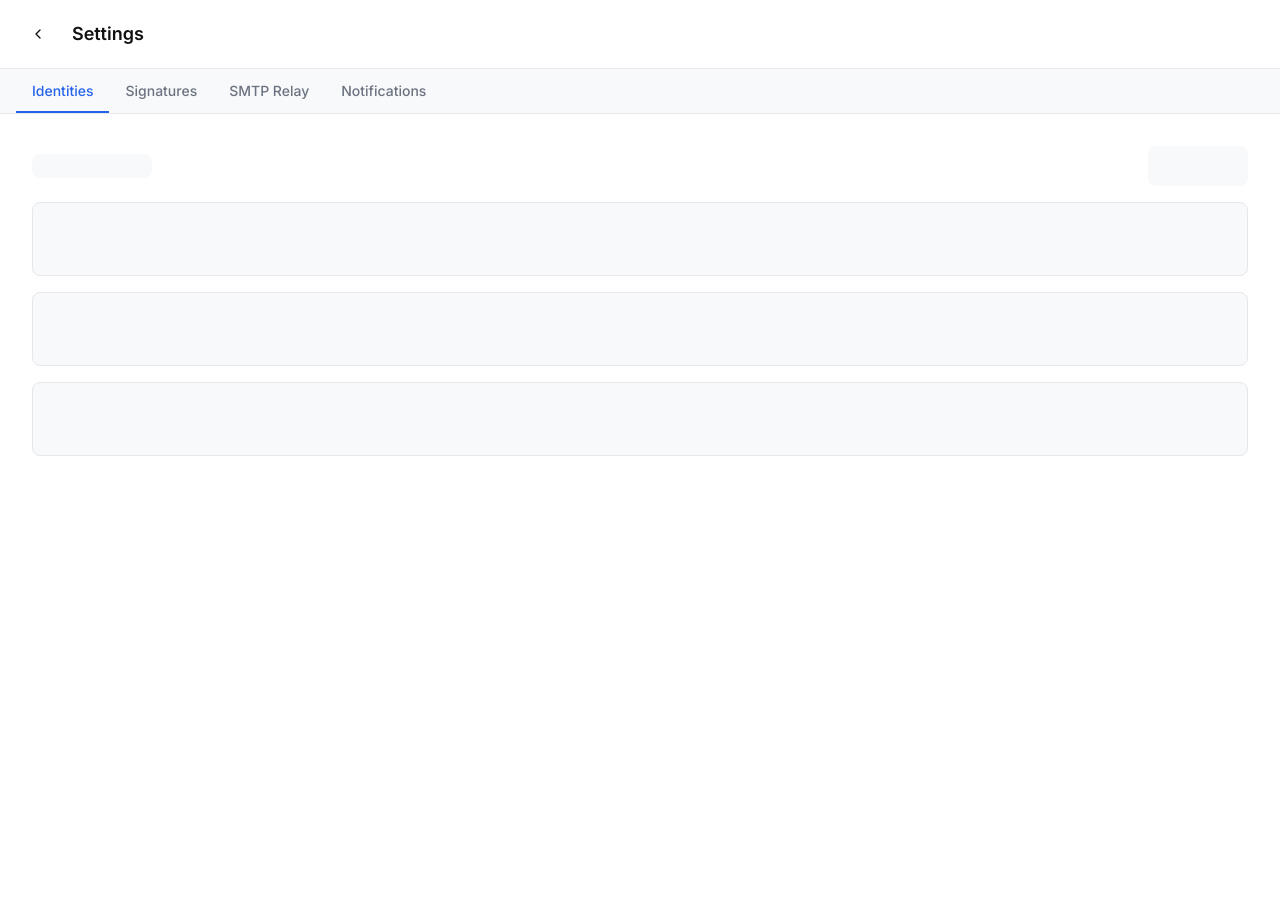
Scenario: Settings › signatures tab › Add Signature button opens create dialog
Click the tab "Signatures".
click(161, 91)  # box [110,69,213,113]
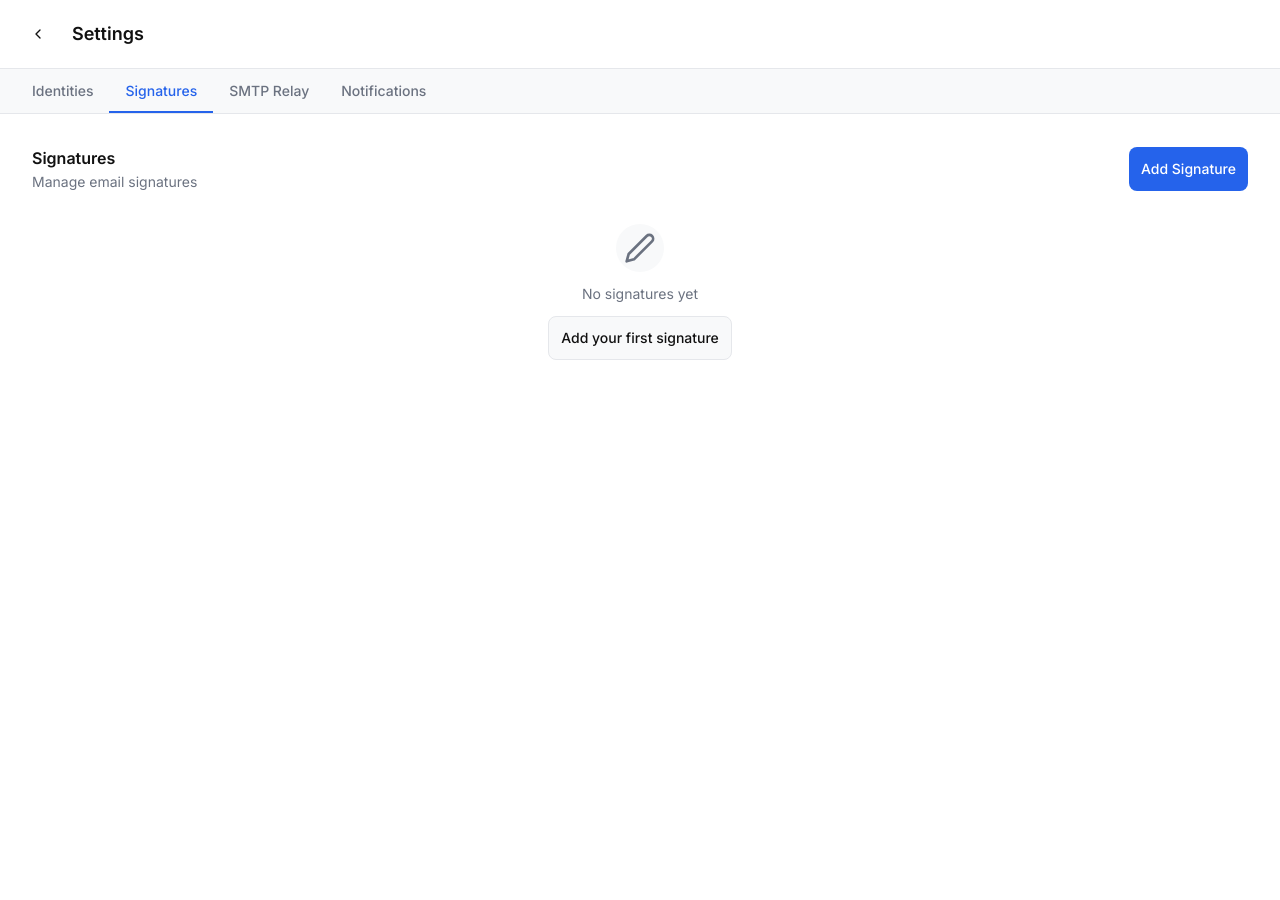
Expected: the text "No signatures yet" is shown, [582,284,698,304]
Click the button "Add your first signature".
click(640, 338)  # box [548,316,732,360]
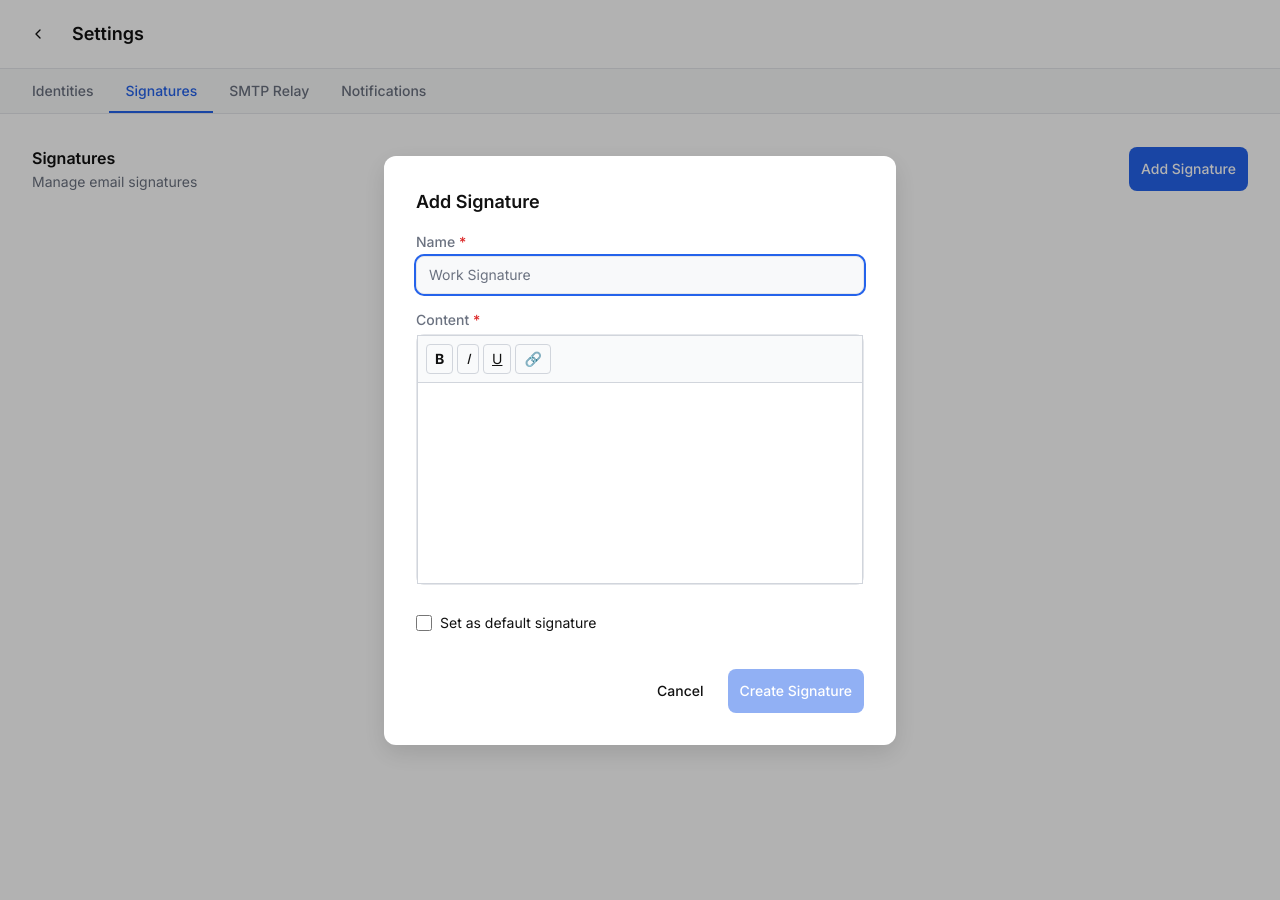
Expected: the heading "Add Signature" is shown, [416,190,540,212]
